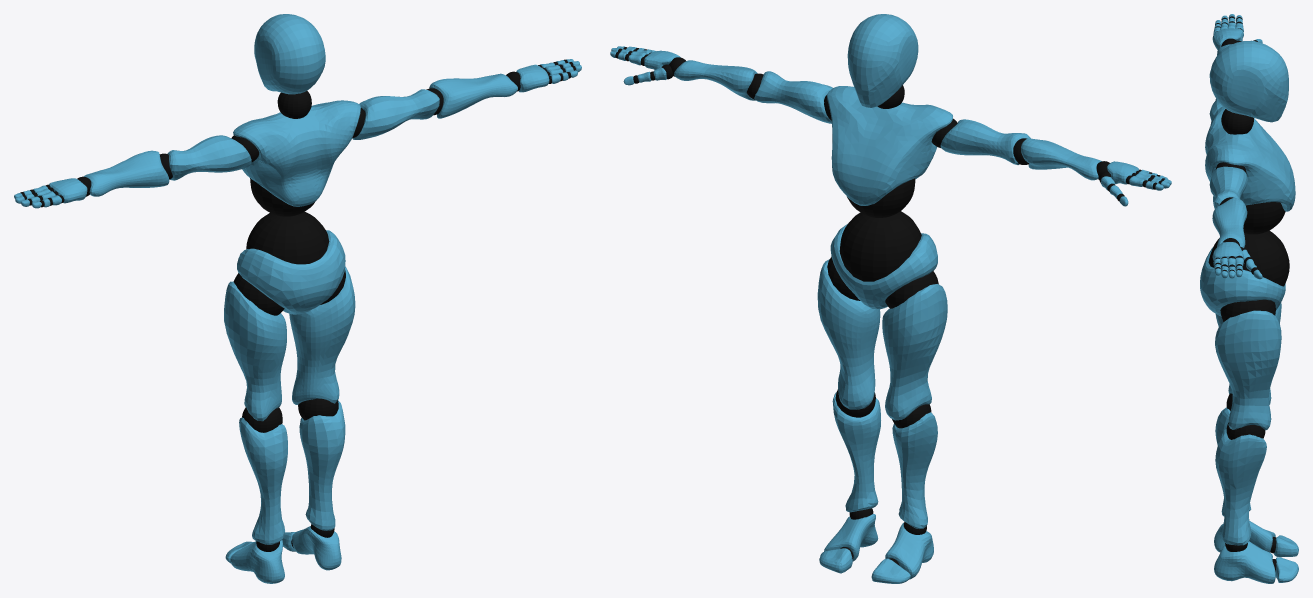
The model's file is beta.obj.
3 renders of one model, left to right at view 1: azimuth 30°, elevation 25°; view 2: azimuth 150°, elevation 25°; view 3: azimuth 270°, elevation 25°, orthographic. The views are drawn at different scales.
Parts seen in each view (by area): view 1: Beta_HighLimbsGeo, Beta_HighTorsoGeo, Beta_HighJointsGeo; view 2: Beta_HighLimbsGeo, Beta_HighTorsoGeo, Beta_HighJointsGeo; view 3: Beta_HighLimbsGeo, Beta_HighTorsoGeo, Beta_HighJointsGeo.
Part boxes in pixels (bbox=[...]): Beta_HighLimbsGeo: bbox=[14, 59, 581, 583]; Beta_HighTorsoGeo: bbox=[233, 14, 360, 314]; Beta_HighJointsGeo: bbox=[20, 59, 576, 551]; Beta_HighLimbsGeo: bbox=[610, 46, 1171, 583]; Beta_HighTorsoGeo: bbox=[827, 14, 952, 309]; Beta_HighJointsGeo: bbox=[615, 47, 1164, 565]; Beta_HighLimbsGeo: bbox=[1209, 14, 1298, 583]; Beta_HighTorsoGeo: bbox=[1200, 40, 1295, 316]; Beta_HighJointsGeo: bbox=[1208, 16, 1289, 571].
Bounding box in the file's own units: 1.94 × 1.81 × 0.31.
